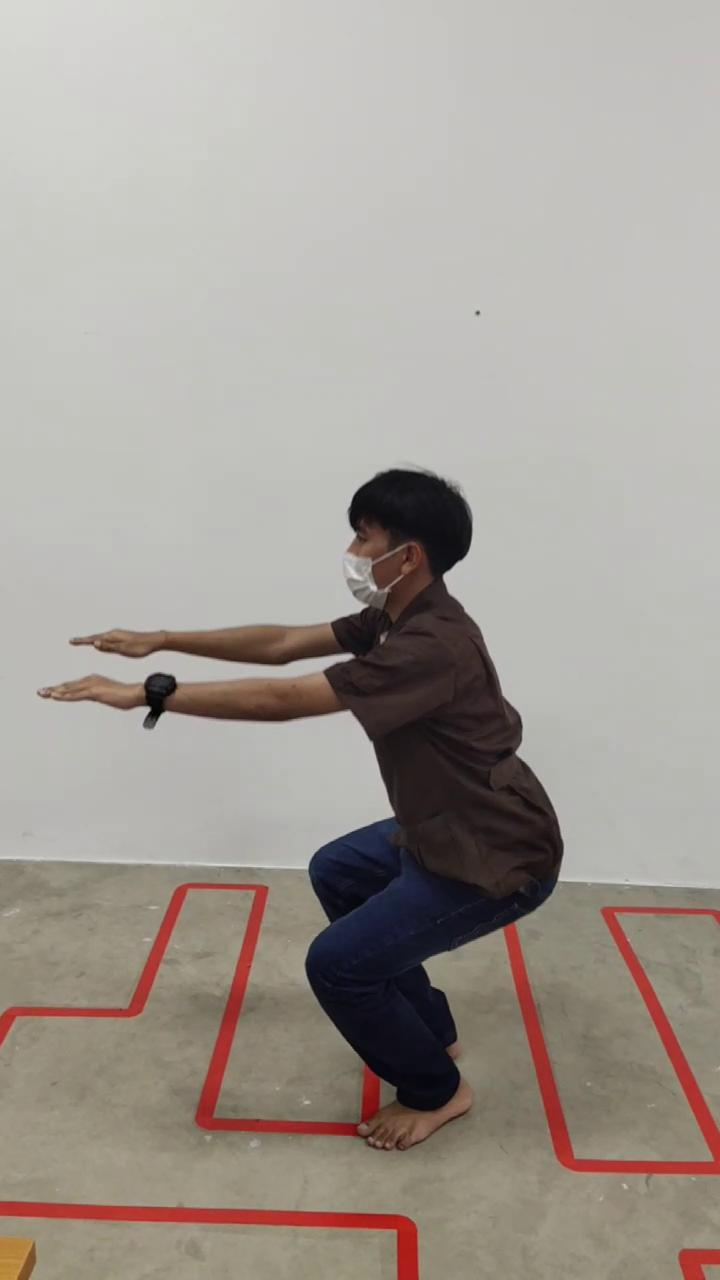squat down: (45, 468, 564, 1153)
